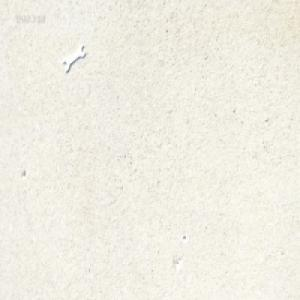Wrench: (63, 40, 86, 71)
